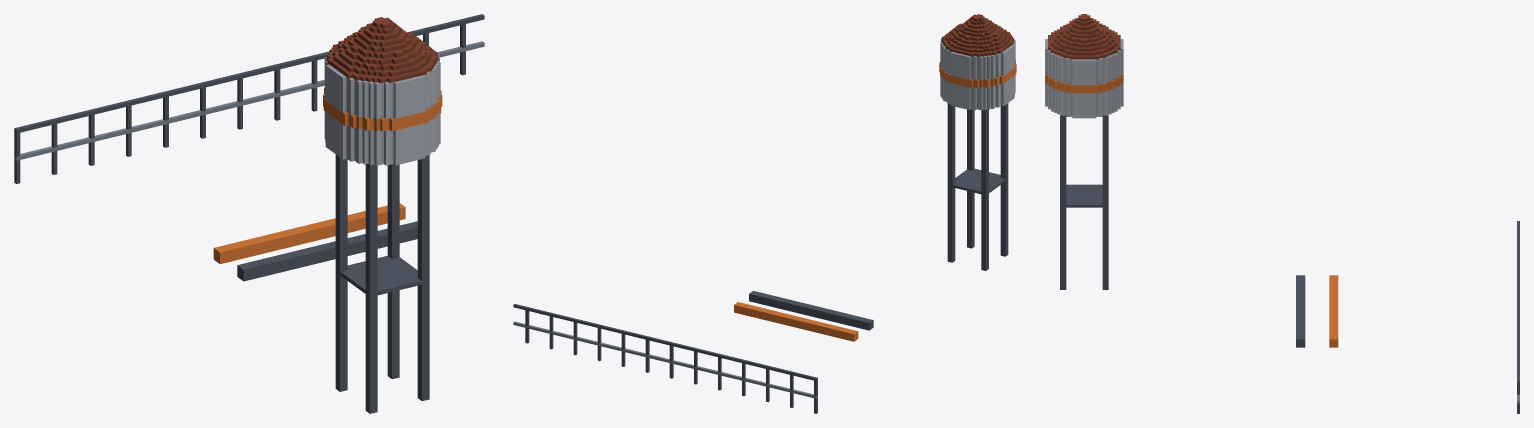
Rendered from pad_e1_l2.glb.
3 renders of one model, left to right at view 1: azimuth 30°, elevation 25°; view 2: azimuth 150°, elevation 25°; view 3: azimuth 270°, elevation 25°, orthographic. The views are drawn at different scales.
Visible parts, largest first — view 1: Base; view 2: Base; view 3: Base.
Boxes of the visible parts, x1=… form: Base: x1=14, y1=14, x2=484, y2=413; Base: x1=513, y1=14, x2=1016, y2=413; Base: x1=1045, y1=14, x2=1519, y2=413.
Size of the model in its own units: 12.6 by 9.6 by 15.7.
